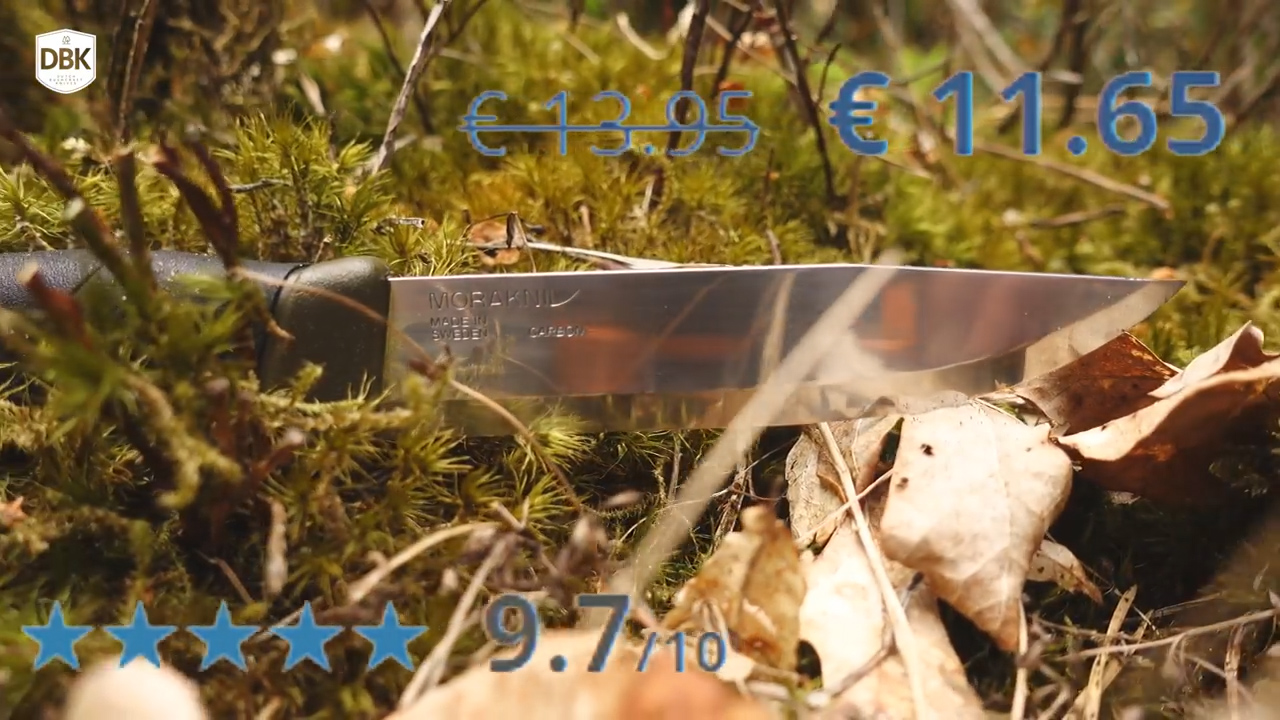knife: (300, 249, 1217, 422)
